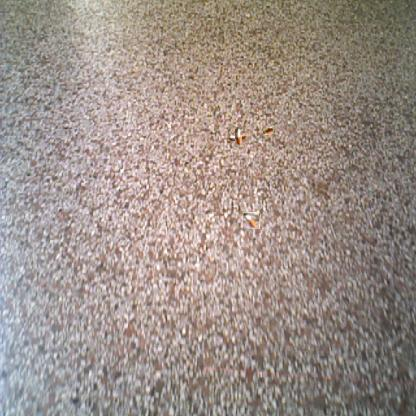dirty: (243, 213, 260, 229), (231, 130, 245, 144), (262, 127, 274, 135)
